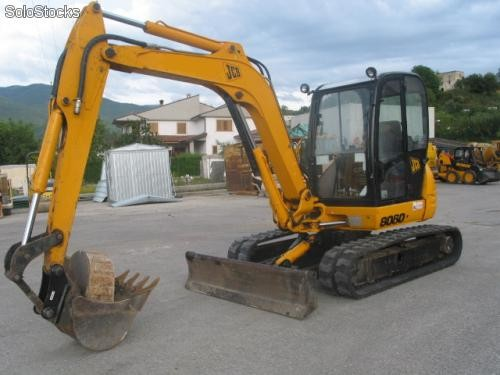backhoe: (3, 12, 464, 353)
